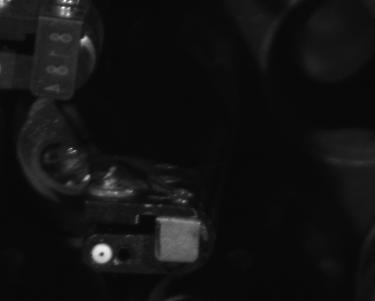fiber: (86, 239, 119, 270)
